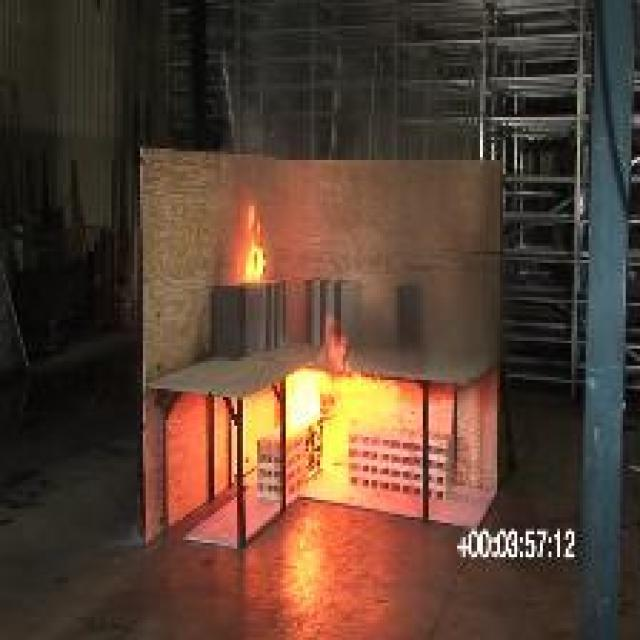Fire: (289, 314, 402, 472), (246, 196, 266, 281)
